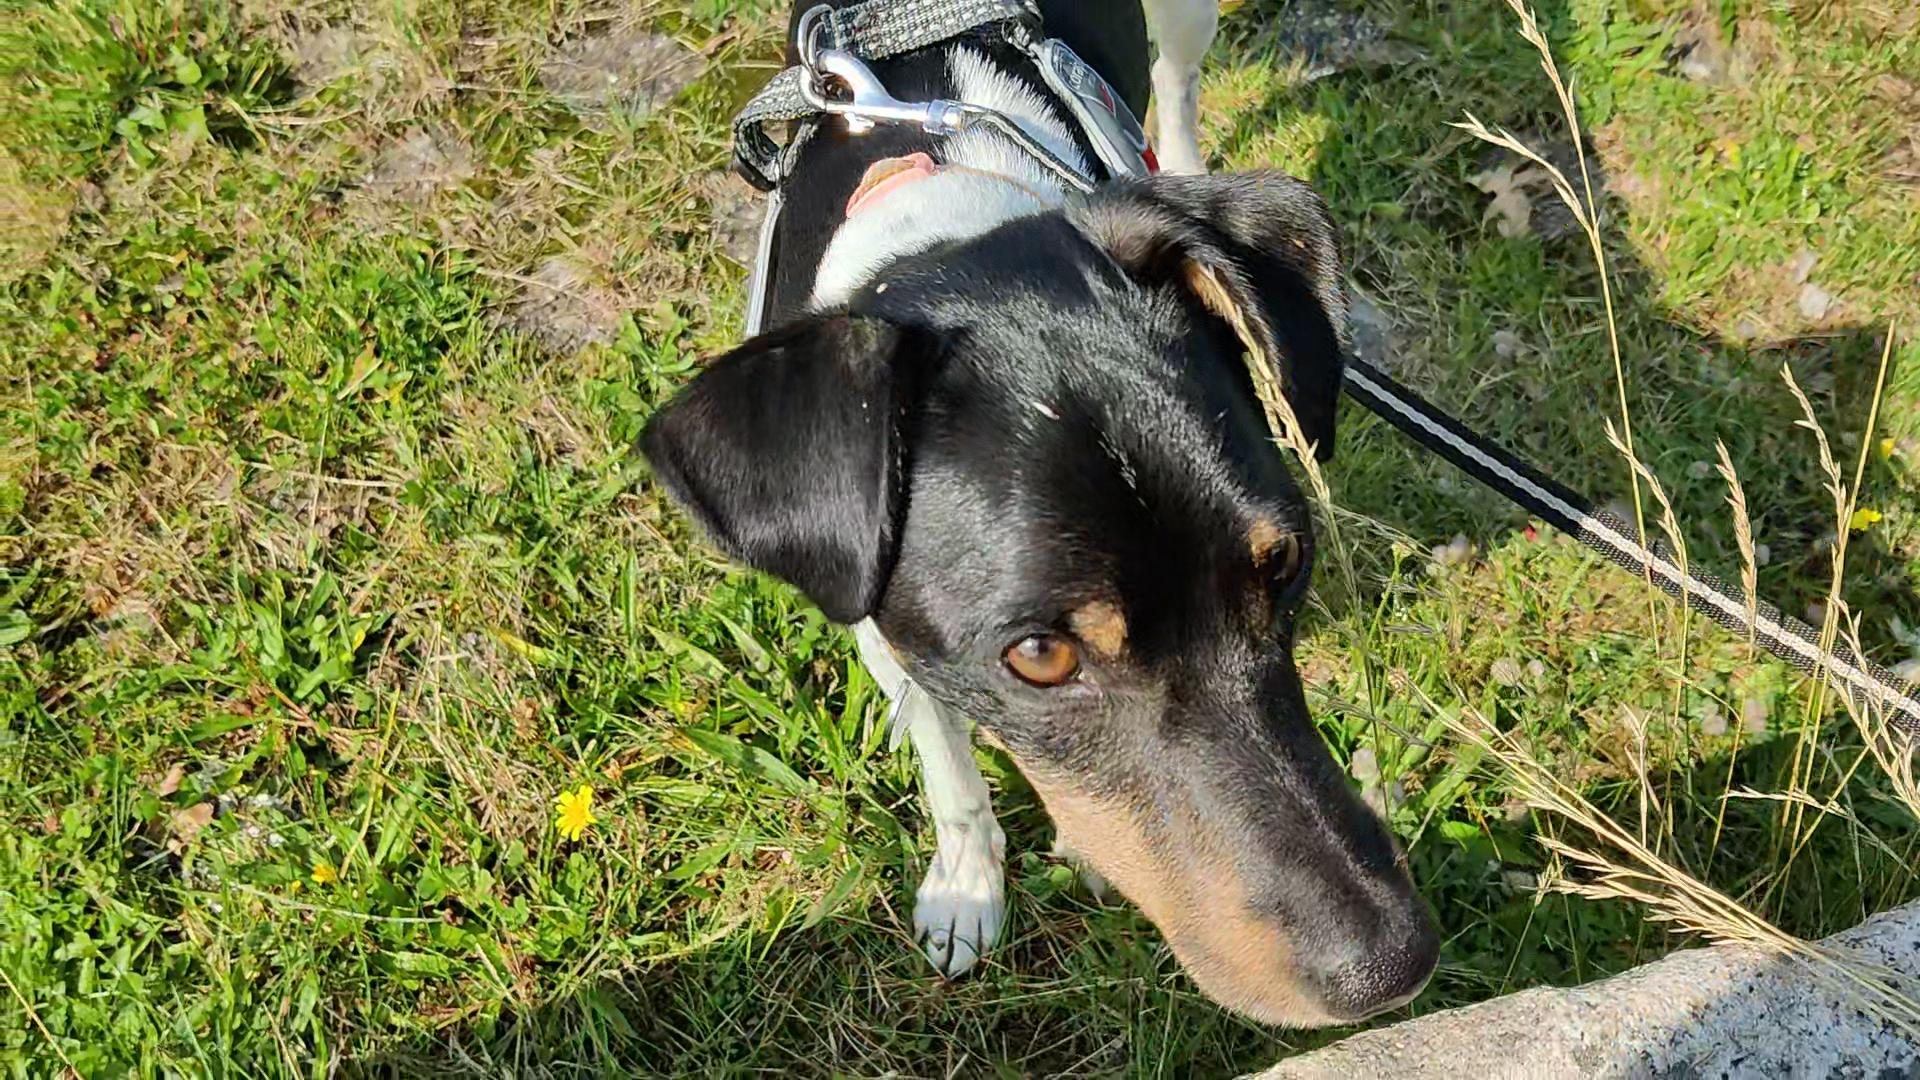Dog: (626, 0, 1456, 1040)
